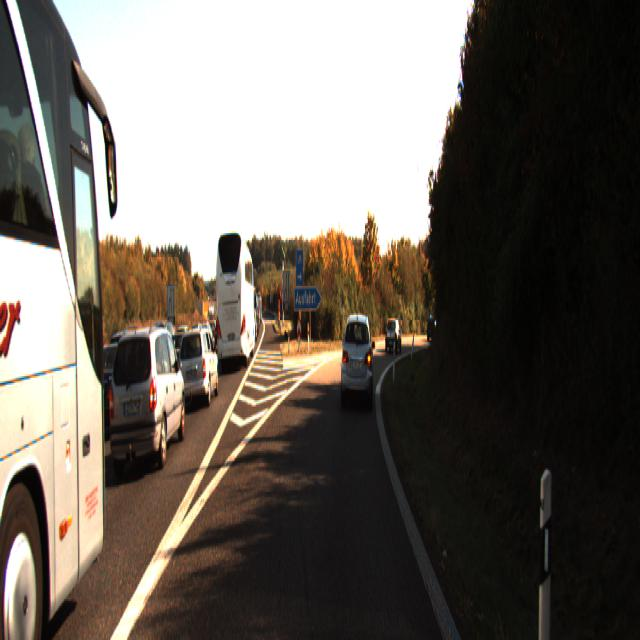Car: (0, 0, 115, 639), (107, 322, 186, 478), (214, 225, 254, 371), (178, 324, 219, 410), (340, 311, 373, 409), (384, 317, 402, 354), (425, 312, 440, 338)
